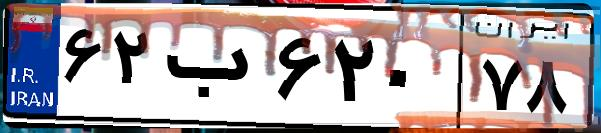0: (385, 28, 445, 110)
2: (330, 28, 385, 110), (110, 28, 158, 98)
6: (270, 28, 330, 110), (57, 26, 110, 100)
7: (475, 38, 525, 113)
8: (525, 38, 570, 115)
ب: (158, 20, 270, 120)
